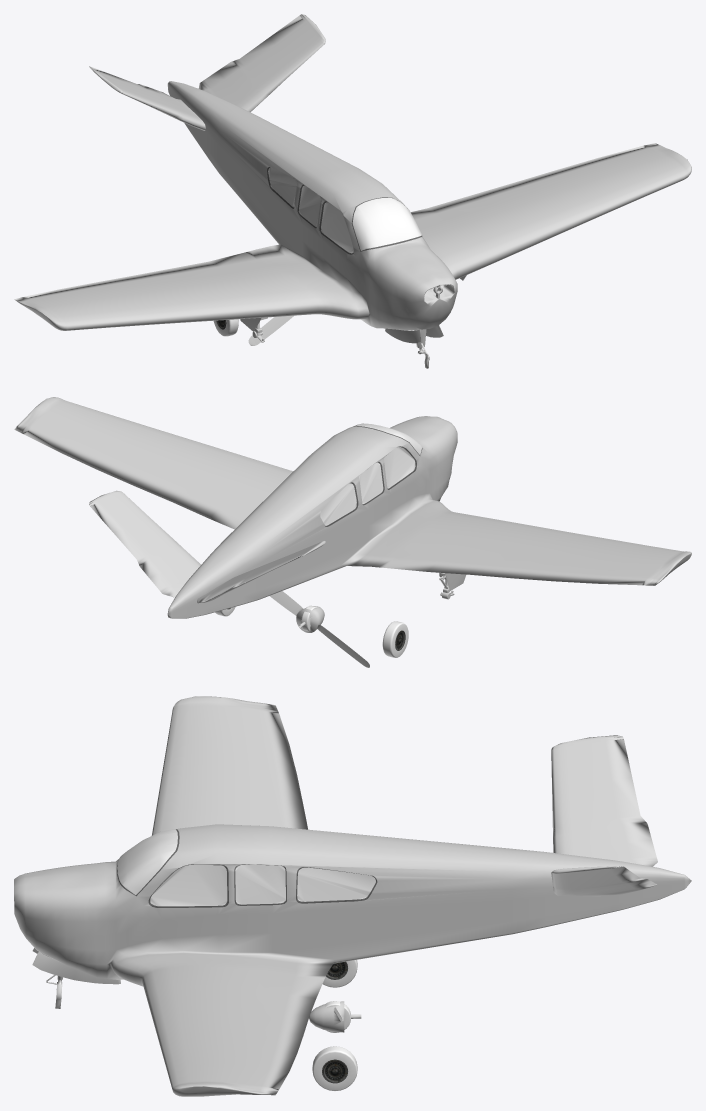
Rendered from sportflugzeug_beech_01.fbx.
3 views of the same model, one above another, from view 1: azimuth 30°, elevation 25°; view 2: azimuth 150°, elevation 25°; view 3: azimuth 270°, elevation 25° (orthographic). The views are drawn at different scales.
Parts seen in each view (by area): view 1: body_main; view 2: body_main, rotor, reifen_hinten; view 3: body_main, reifen_hinten, rotor.
Boxes of the visible parts, bbox=[...] form: body_main: bbox=[14, 14, 691, 368]; body_main: bbox=[14, 397, 691, 618]; rotor: bbox=[269, 591, 369, 667]; reifen_hinten: bbox=[215, 606, 408, 657]; body_main: bbox=[14, 696, 691, 1096]; reifen_hinten: bbox=[312, 960, 357, 1090]; rotor: bbox=[309, 1001, 361, 1032].
Bounding box in the file's own units: 921 × 286 × 676.
